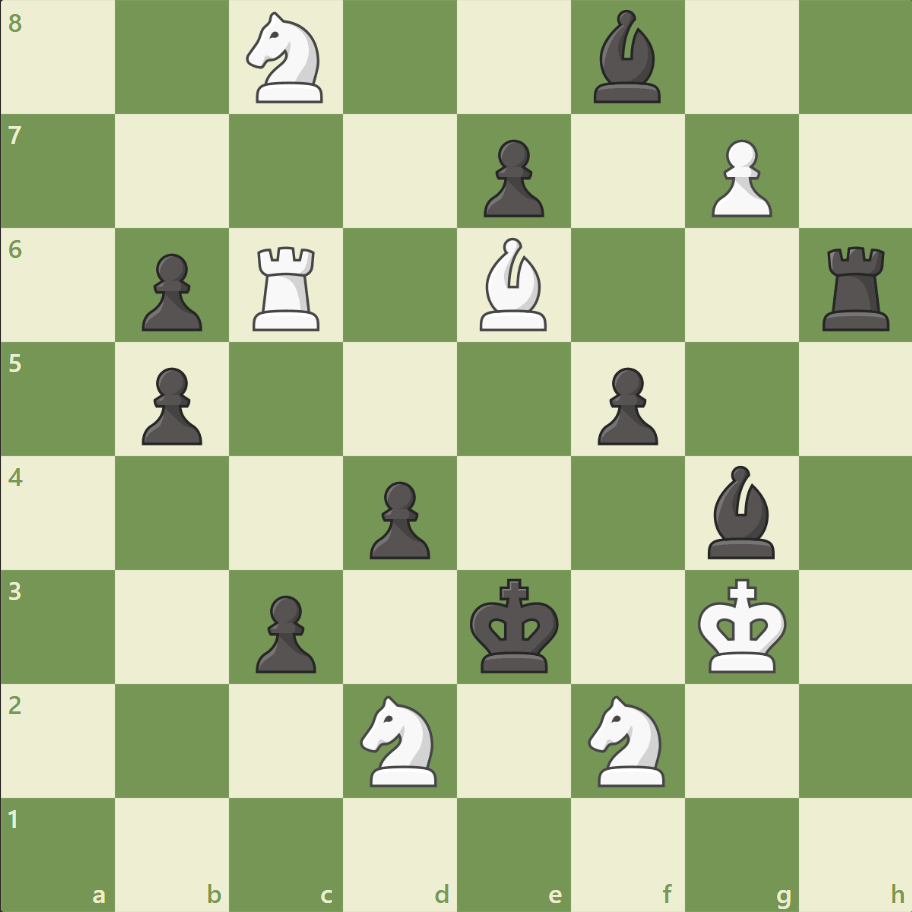B: (471, 233, 555, 336)
K: (692, 571, 792, 679)
N: (351, 688, 449, 791), (238, 7, 335, 110), (579, 688, 676, 791)
P: (701, 132, 776, 223)
R: (246, 239, 329, 336)
b: (585, 6, 669, 109), (698, 460, 782, 563)
k: (465, 571, 565, 679)
p: (474, 132, 549, 223), (133, 246, 208, 337), (133, 359, 208, 450), (247, 586, 322, 677), (588, 359, 662, 450), (361, 473, 435, 564)
r: (814, 239, 897, 336)
